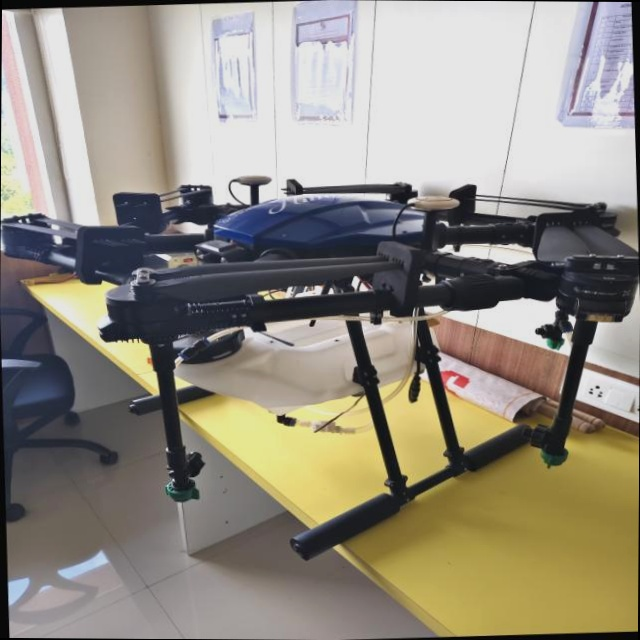agriculturedrone: (0, 150, 640, 579)
